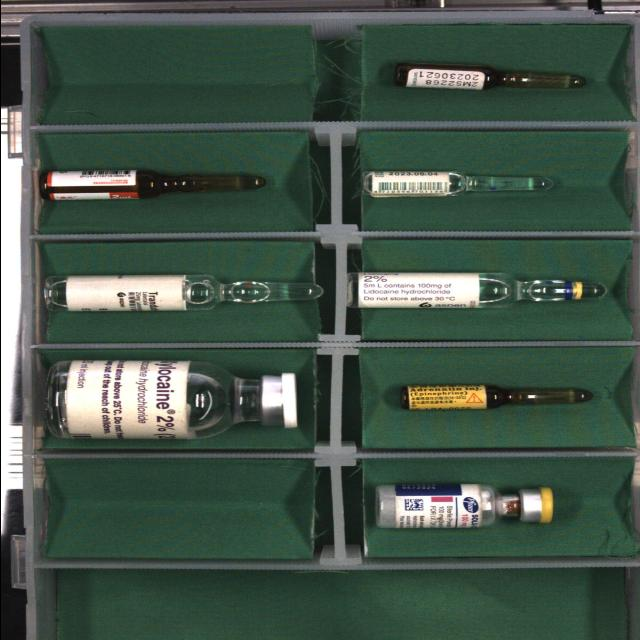Vials: (45, 360, 297, 439), (374, 484, 553, 528)
